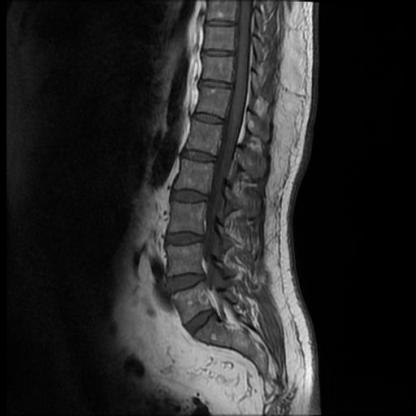Disc Bulgerotation: (181, 309, 223, 333)
Disc Relaxationrotation: (158, 180, 214, 297), (181, 308, 222, 332)
